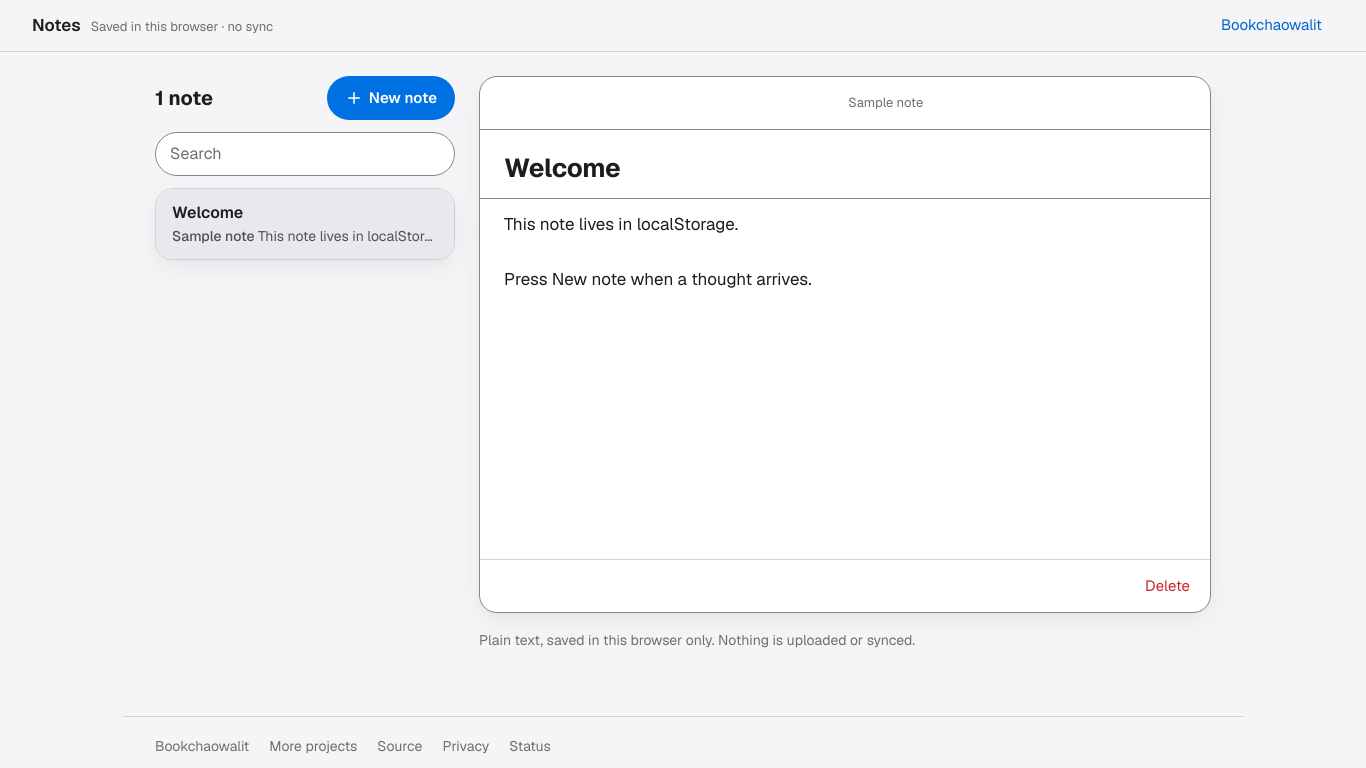
Test: review fixes › Undo restores the version that was deleted, including an edit saved by another tab
Click the button "Delete": (1168, 586) left=1133, top=564, right=1202, bottom=608
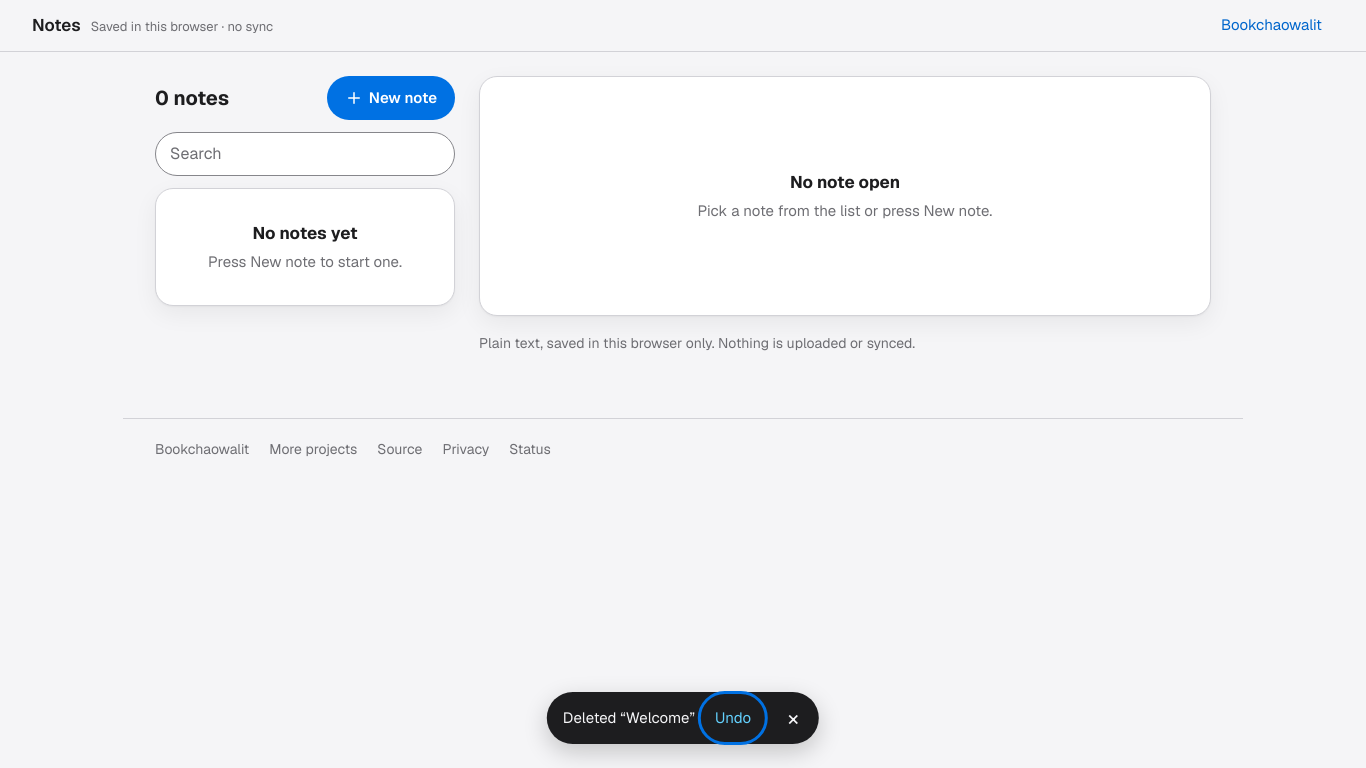
Click the button "Undo": (733, 718) left=703, top=696, right=763, bottom=740
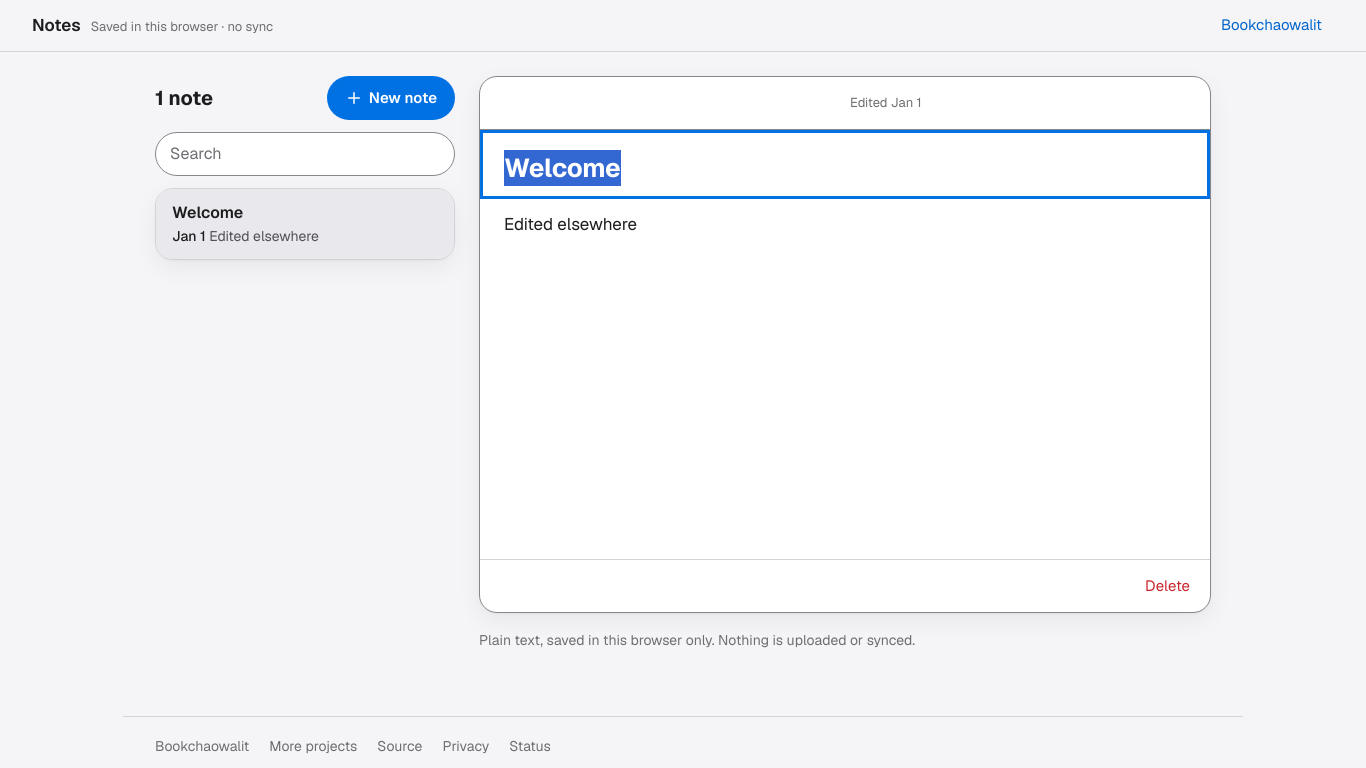
Now the text box with id "note-body" holds "Edited elsewhere", box left=480, top=199, right=1210, bottom=559
